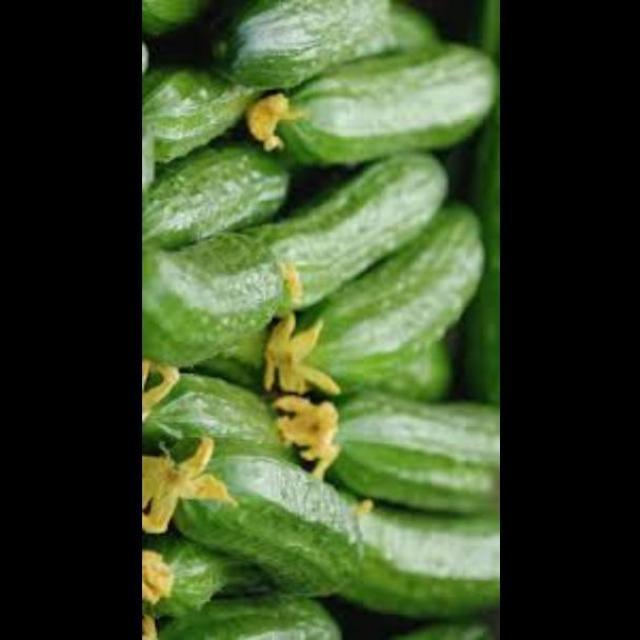cucumber: (267, 212, 489, 394), (143, 434, 380, 594), (250, 136, 448, 306), (254, 39, 492, 180), (278, 371, 501, 498), (312, 496, 500, 624), (142, 146, 319, 275), (143, 221, 300, 347), (201, 0, 391, 101), (142, 354, 296, 457), (142, 580, 350, 640), (142, 54, 250, 168)
